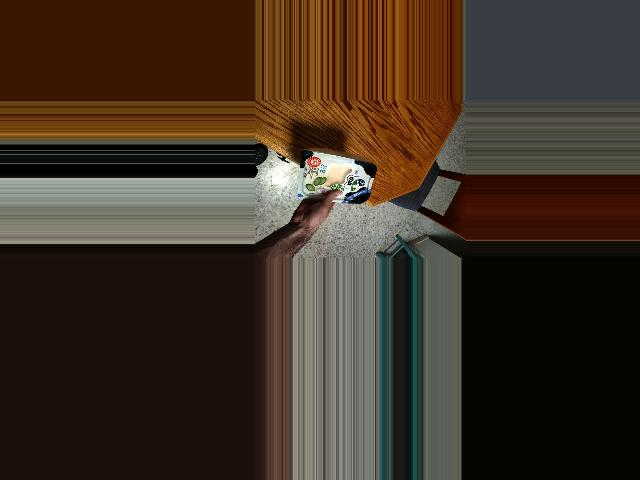cheese: (311, 149, 367, 211)
